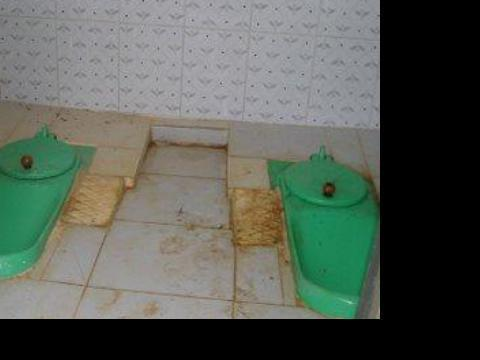Bote de Basura: (274, 147, 405, 319)
Sanitario: (0, 131, 86, 303)
